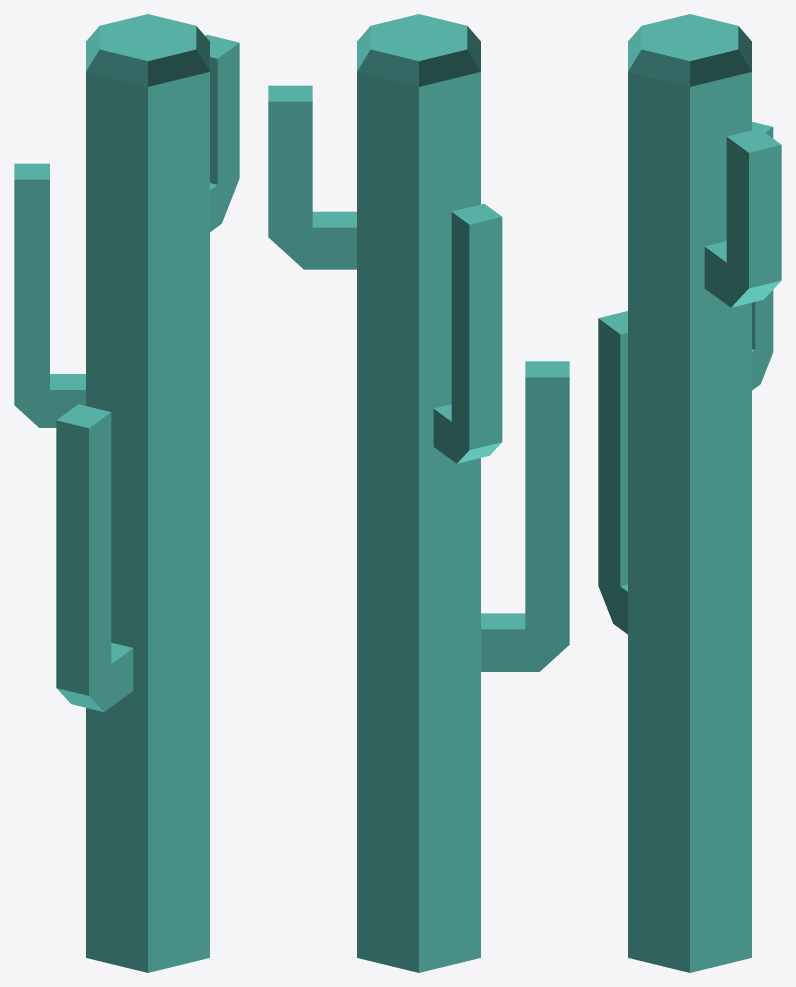
File: cactus_tall.obj
The picture shows the model from 3 angles, left to right: view 1: azimuth 30°, elevation 25°; view 2: azimuth 150°, elevation 25°; view 3: azimuth 270°, elevation 25°; orthographic projection.
Visible parts, largest first — view 1: cactus_tall; view 2: cactus_tall; view 3: cactus_tall.
Boxes of the visible parts, <box> form: cactus_tall: <box>14,14,239,972</box>; cactus_tall: <box>268,14,569,972</box>; cactus_tall: <box>598,14,781,972</box>.
Bounding box in the file's own units: 2.06 × 7.35 × 1.35.
